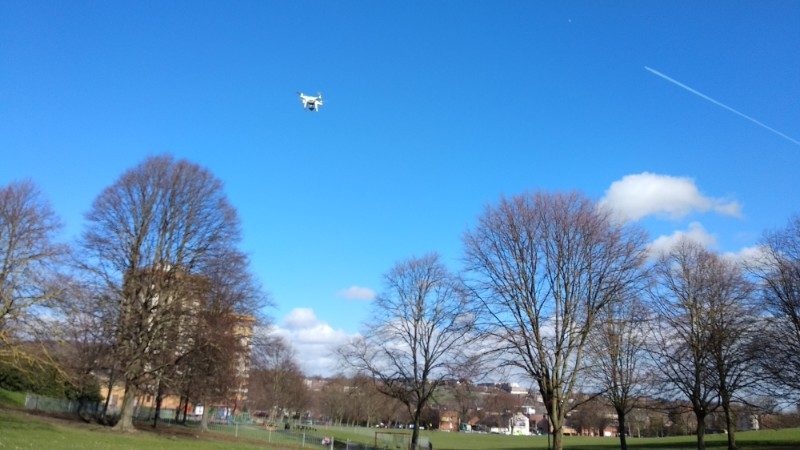drone: (295, 90, 326, 114)
